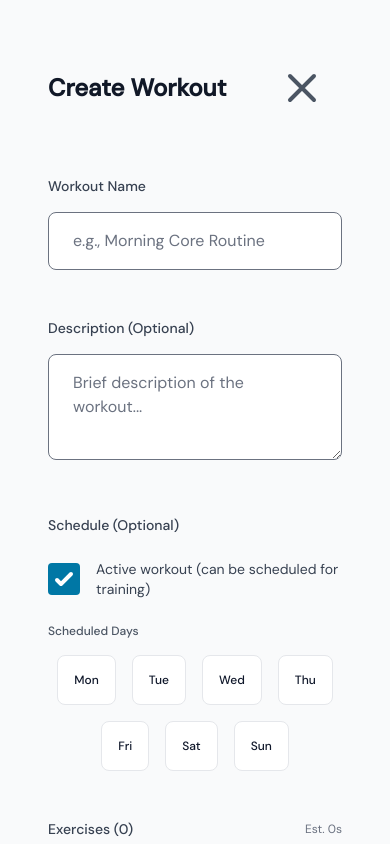
Test: CreateWorkoutPage - Exercise Type Display Fix › should show only sets/reps fields for repetition-based exercises (Push-ups)
Fill workout name
Type "Test Workout" into the field labelled "Workout Name" at (195, 241), box 48,212 -> 342,270
(page scrolled)
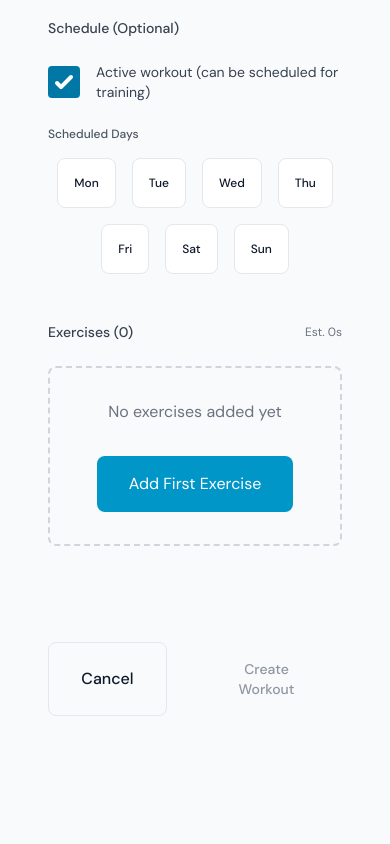
Open exercise picker
Click the button "Add First Exercise" at (195, 484), box 97,456 -> 293,512
(page scrolled)
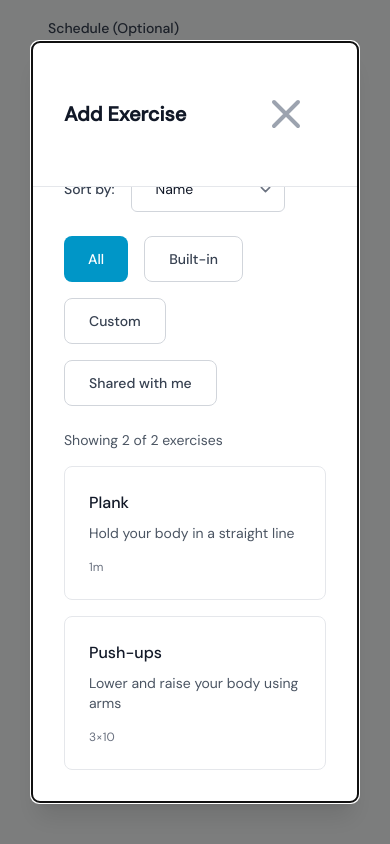
Expected: the heading "Push-ups" is shown, 89,642 -> 162,663
Click the button "Push-ups" at (195, 693), box 64,616 -> 326,770
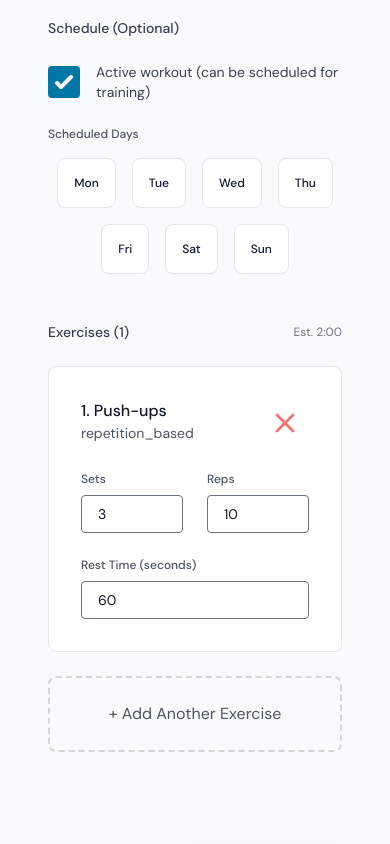
Expected: the heading "1. Push-ups" is shown, 81,400 -> 167,421
Expected: the number field labelled "Sets" is shown, 81,495 -> 183,533
Expected: the number field labelled "Reps" is shown, 207,495 -> 309,533
